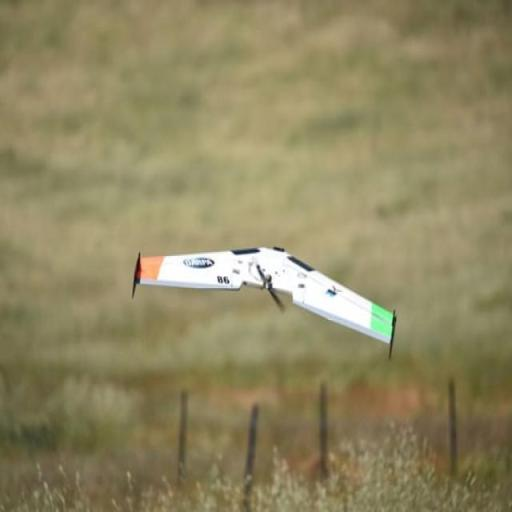uav: (127, 237, 407, 362)
